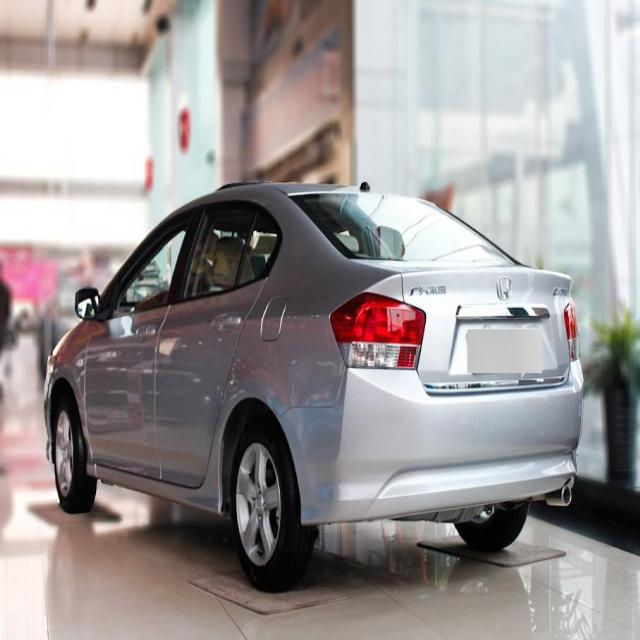back_glass: (292, 187, 518, 269)
back_left_side_light: (328, 288, 428, 376)
back_right_side_light: (563, 299, 580, 361)
door: (160, 193, 282, 482)
front_left_side_door: (82, 196, 201, 486)
front_left_side_mirror: (75, 279, 105, 323)
rear_bumper: (280, 363, 584, 525)
wheel: (228, 424, 292, 586), (52, 389, 90, 507)
